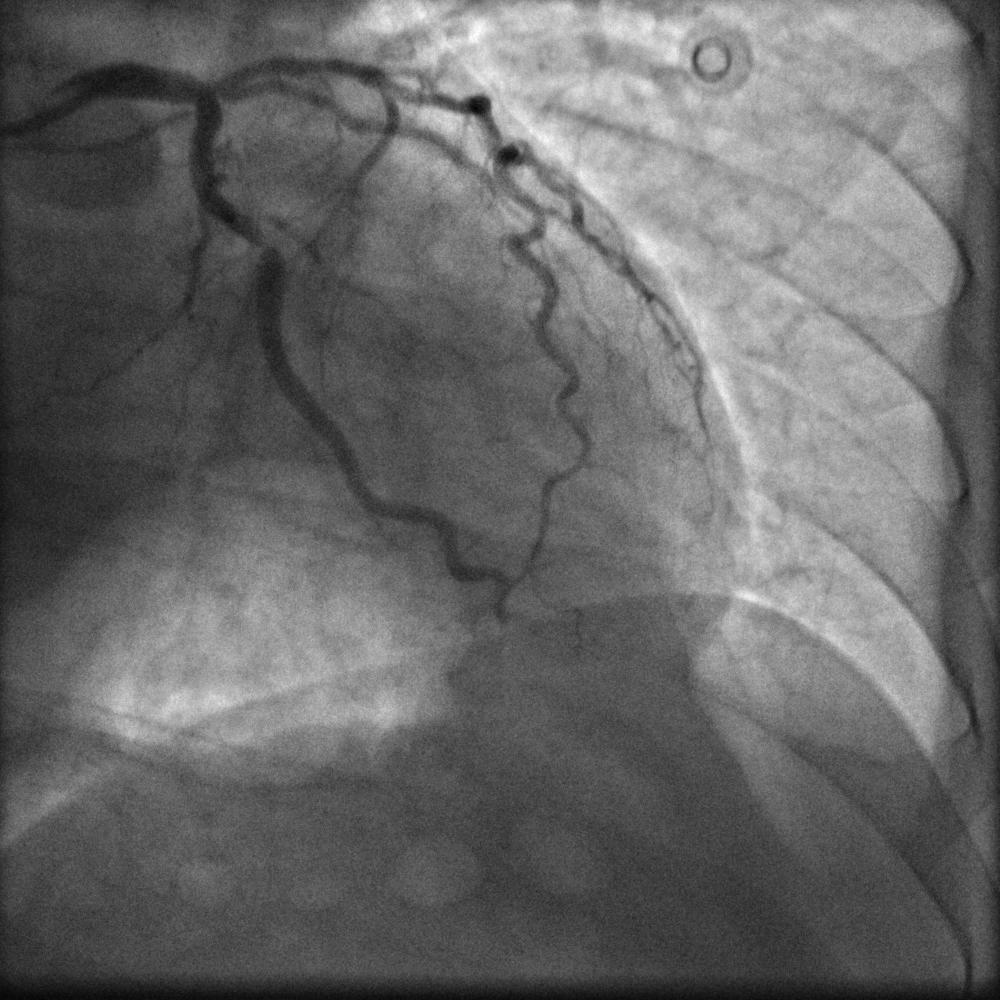Stenosis: (245, 226, 273, 262)
